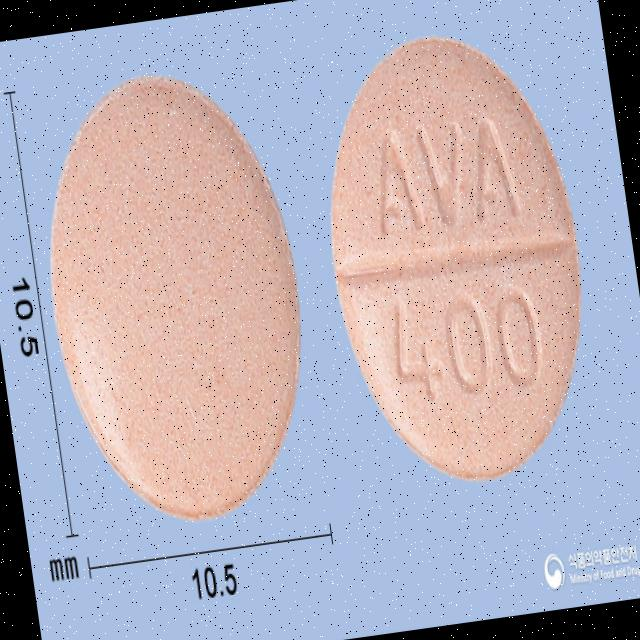Aclova: (302, 19, 611, 502), (22, 58, 330, 536)
